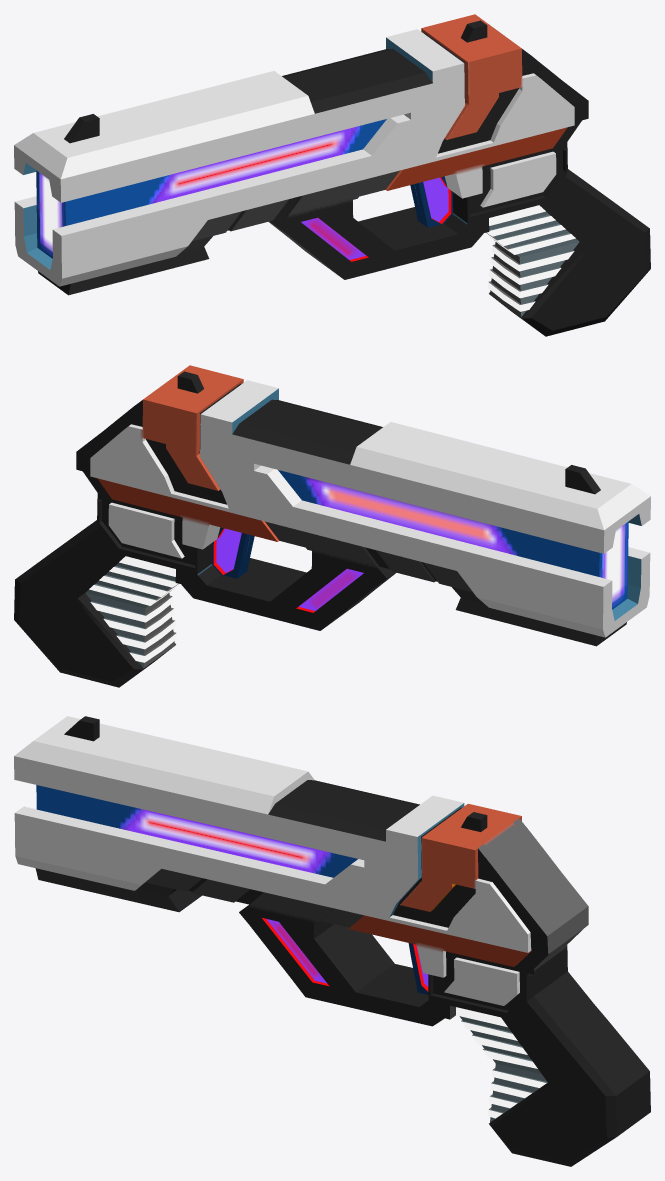
File: gunAnim2.fbx
The picture shows the model from 3 angles, top to bottom: view 1: azimuth 30°, elevation 25°; view 2: azimuth 150°, elevation 25°; view 3: azimuth 330°, elevation 25°; orthographic projection.
Parts seen in each view (by area): view 1: Gun_Baked; view 2: Gun_Baked; view 3: Gun_Baked.
Boxes of the visible parts, bbox=[...] form: Gun_Baked: bbox=[14, 14, 650, 336]; Gun_Baked: bbox=[14, 365, 650, 687]; Gun_Baked: bbox=[14, 716, 650, 1166].
Size of the model in its own units: 33.15 by 16.66 by 4.5.
